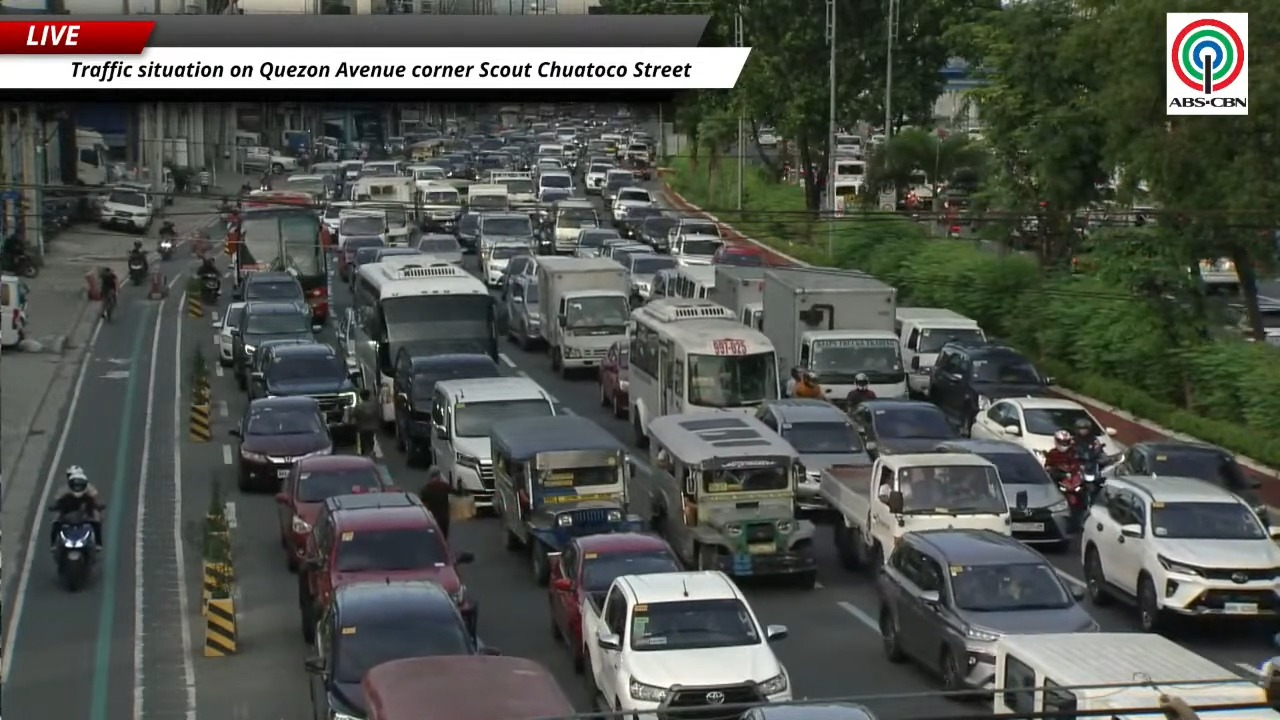bus: (352, 255, 498, 422), (629, 297, 779, 444), (226, 191, 333, 324)
car: (877, 529, 1098, 690), (1081, 476, 1279, 631), (298, 492, 476, 642), (307, 582, 493, 719), (548, 533, 681, 672), (936, 439, 1075, 549), (1104, 439, 1269, 524), (276, 455, 394, 570), (756, 398, 871, 512), (394, 349, 500, 464), (928, 340, 1050, 432), (249, 342, 357, 433), (230, 397, 331, 492), (970, 397, 1123, 459), (232, 301, 313, 390), (850, 400, 959, 458), (621, 246, 677, 306), (234, 271, 308, 310), (504, 275, 542, 349), (248, 337, 313, 377), (481, 240, 533, 288), (741, 702, 877, 719), (599, 341, 628, 417), (338, 237, 384, 282), (215, 302, 244, 367), (609, 186, 655, 224), (499, 254, 536, 298), (618, 206, 662, 241), (347, 245, 383, 286), (415, 233, 462, 264), (638, 214, 677, 251), (573, 227, 619, 257), (711, 243, 768, 266), (600, 237, 646, 264), (455, 211, 479, 253), (370, 247, 421, 262)
motorcycle: (54, 513, 96, 591), (0, 252, 38, 277), (201, 275, 219, 304), (128, 258, 146, 285), (101, 292, 116, 322), (157, 236, 173, 260)
truck: (580, 571, 791, 717), (990, 632, 1279, 719), (819, 453, 1010, 573), (762, 267, 906, 405), (537, 256, 629, 376), (709, 266, 765, 329), (75, 129, 109, 185), (488, 171, 536, 208), (240, 146, 297, 173)
